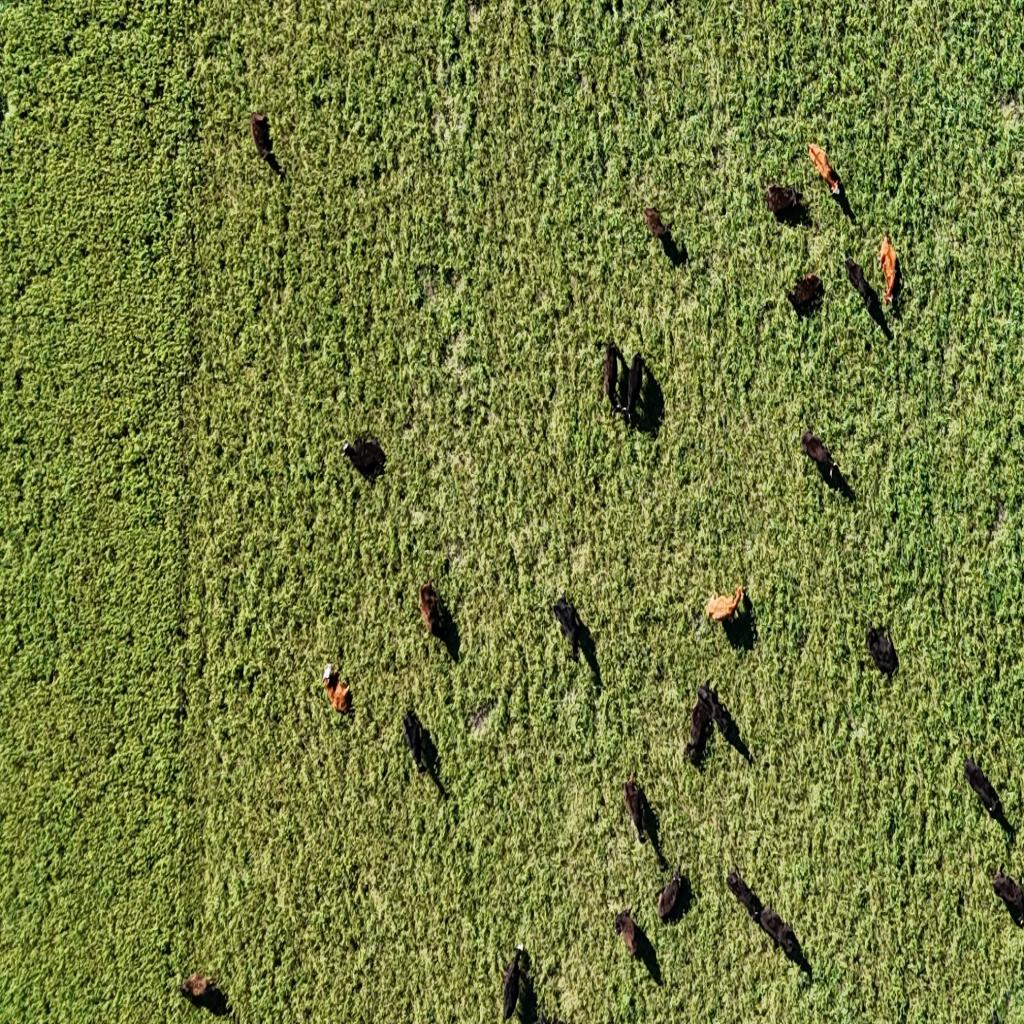cow: (760, 904, 808, 971), (682, 684, 718, 767), (964, 756, 1003, 820), (802, 434, 844, 492), (702, 583, 746, 638), (809, 142, 846, 205), (403, 712, 436, 780), (340, 435, 385, 481), (501, 945, 528, 1021), (655, 860, 685, 925), (623, 774, 650, 846), (991, 870, 1024, 926), (177, 971, 223, 1011), (866, 623, 898, 678), (878, 232, 901, 308), (844, 256, 876, 308), (322, 663, 353, 715), (785, 274, 823, 315), (614, 908, 642, 960), (418, 582, 444, 638), (764, 182, 801, 221), (553, 594, 581, 644), (603, 342, 622, 414), (625, 352, 643, 426), (704, 682, 730, 733), (250, 112, 274, 162), (726, 865, 753, 909), (616, 345, 631, 414), (438, 596, 458, 646), (643, 206, 669, 240)
